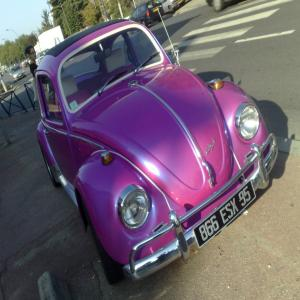Vehicle-registration-plate: (194, 180, 257, 249)
